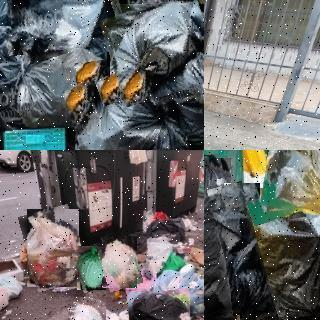Garbage: (68, 57, 204, 150), (235, 181, 320, 320), (0, 22, 109, 129), (104, 0, 204, 101), (113, 1, 204, 92), (215, 182, 268, 320), (5, 0, 123, 58), (204, 155, 235, 320), (23, 207, 84, 290), (263, 150, 320, 217), (99, 235, 140, 290), (127, 290, 191, 320), (74, 245, 109, 292), (146, 217, 186, 240), (69, 297, 108, 320), (126, 269, 152, 297)
